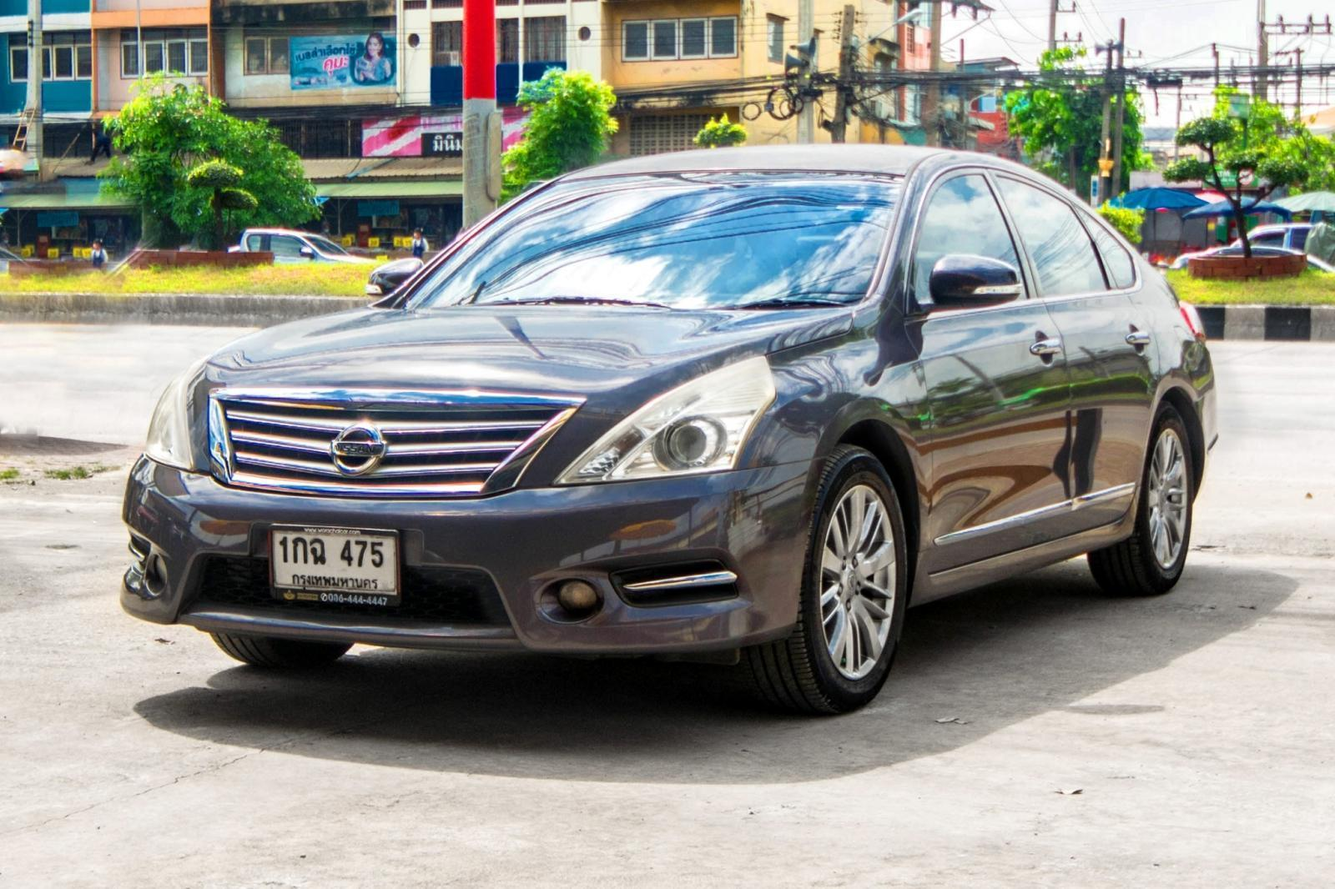license-plate: (258, 506, 414, 624)
